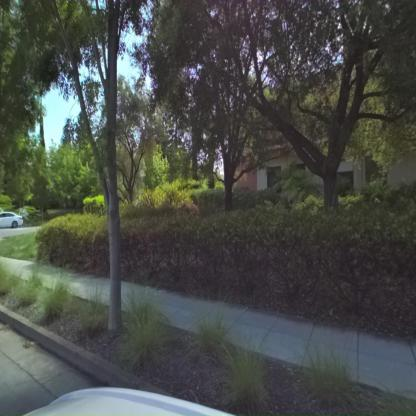car: (0, 210, 24, 229)
